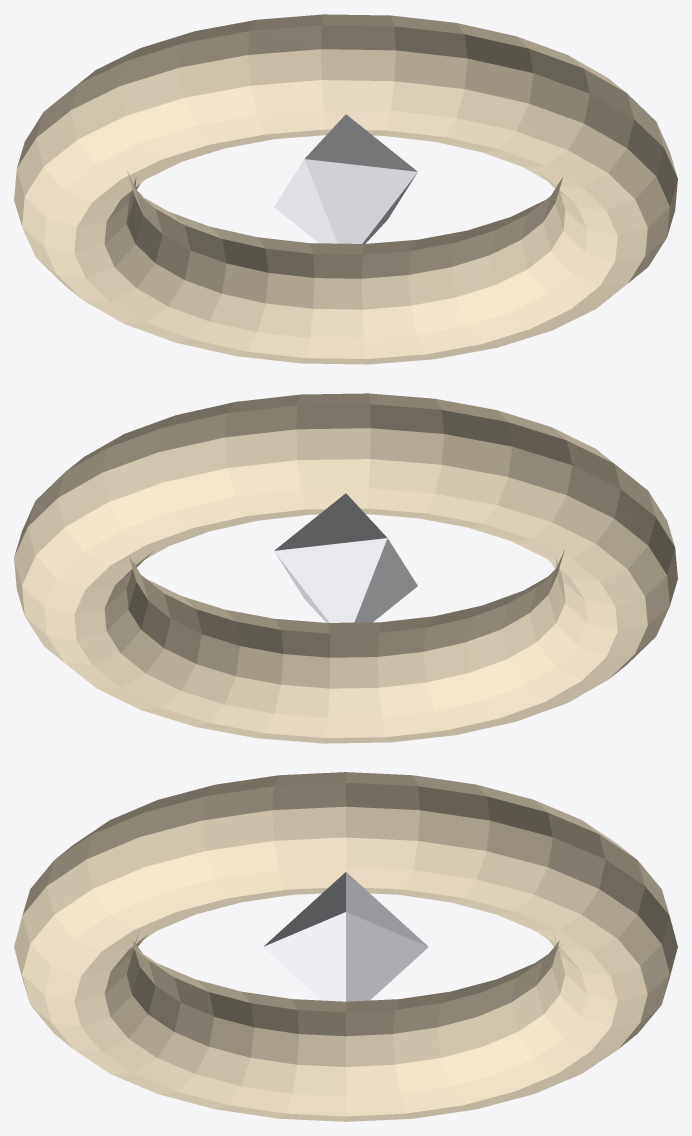
Rendered from demo-ring-draco-meshopt.glb.
3 renders of one model, top to bottom at view 1: azimuth 30°, elevation 25°; view 2: azimuth 150°, elevation 25°; view 3: azimuth 270°, elevation 25°, orthographic.
Parts seen in each view (by area): view 1: Metal 1, Gem 1; view 2: Metal 1, Gem 1; view 3: Metal 1, Gem 1.
Boxes of the visible parts, box(x1,y1,x2,y2) form: Metal 1: box(14, 14, 677, 364); Gem 1: box(274, 114, 417, 243); Metal 1: box(14, 393, 677, 743); Gem 1: box(274, 493, 417, 622); Metal 1: box(14, 772, 677, 1121); Gem 1: box(263, 872, 428, 1001).
Bounding box in the file's own units: 57670 × 14417 × 57670.
